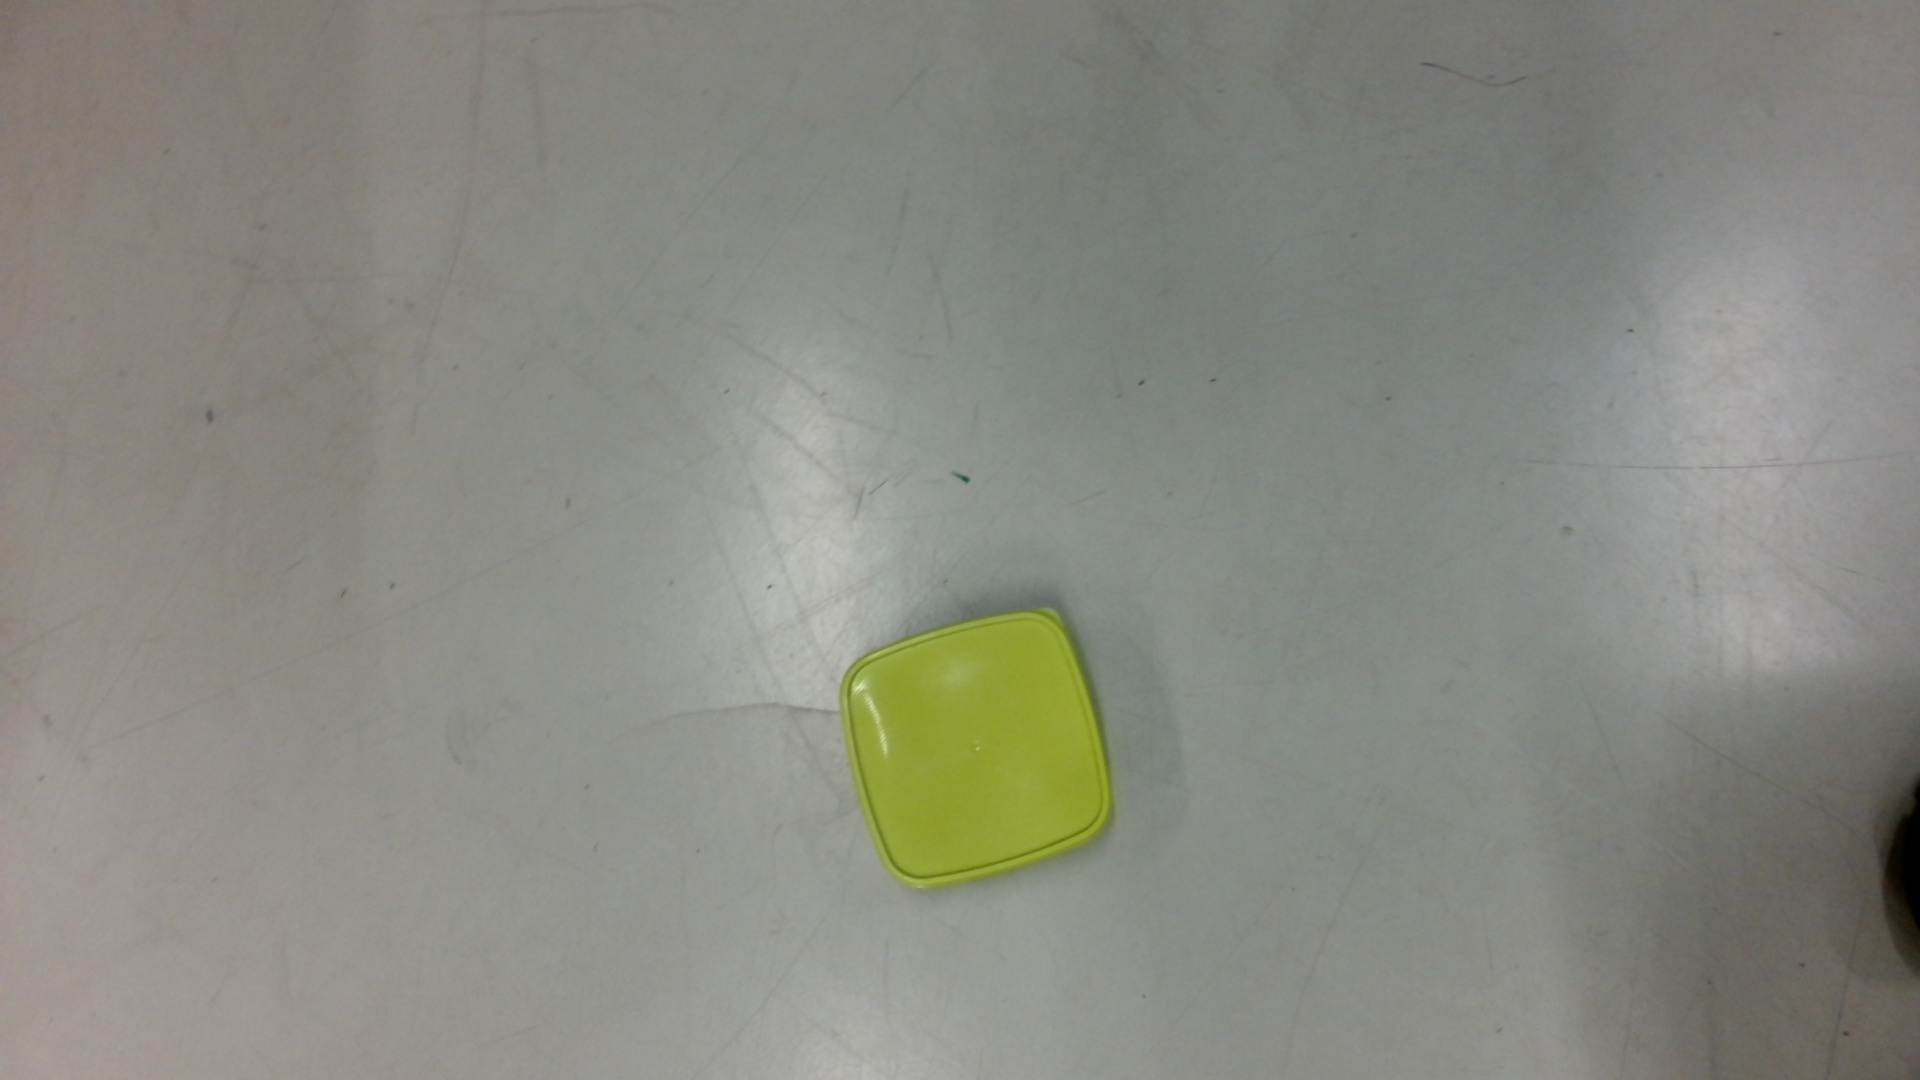Box: (835, 601, 1124, 897)
